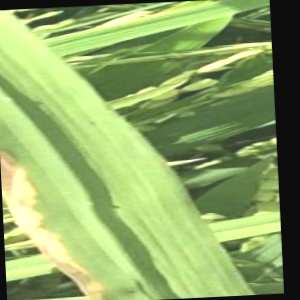Leaf_Blast: (0, 22, 163, 300)
